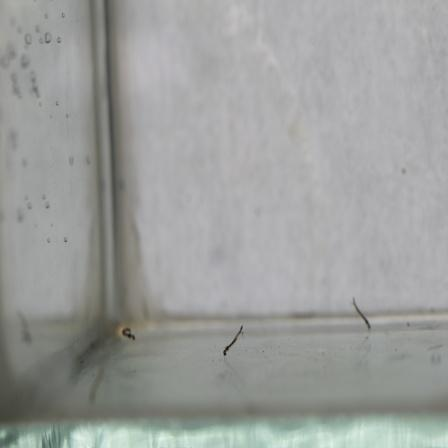Jentik-Nyamuk: (222, 322, 247, 360), (119, 320, 139, 347)
